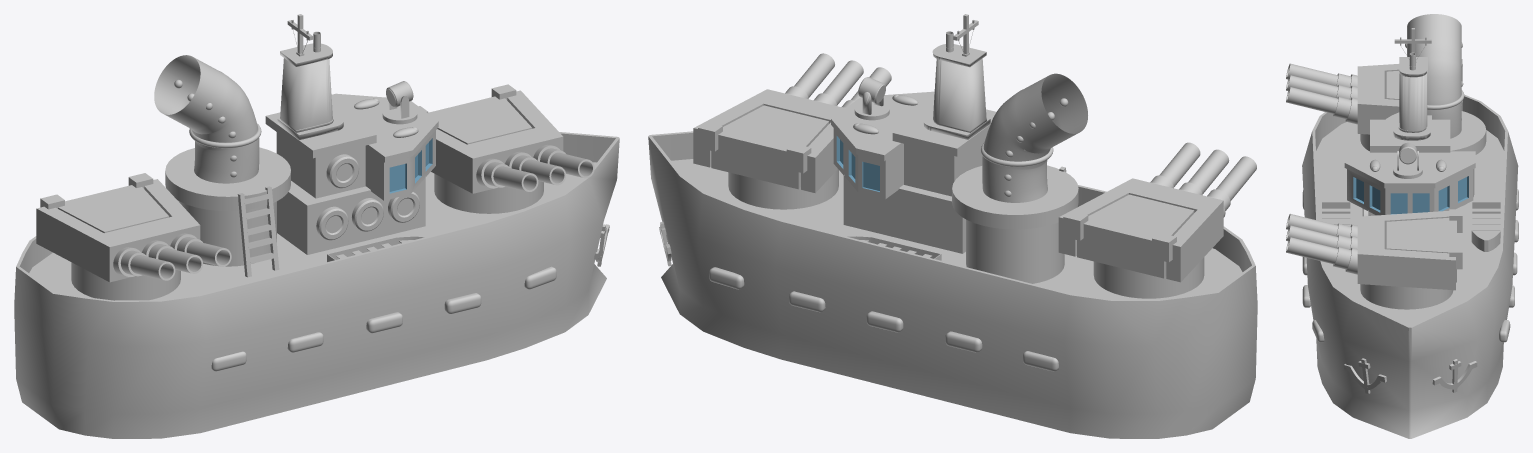
3 views of the same model, side by side, from view 1: azimuth 30°, elevation 25°; view 2: azimuth 150°, elevation 25°; view 3: azimuth 270°, elevation 25° (orthographic). The views are drawn at different scales.
Parts seen in each view (by area): view 1: 立方体_2_7, 扫描, 圆柱, 立方体_2_6, 立方体_2_2, 立方体_2, 立方体_3, 立方体_2_4, 封顶_2_9, 立方体_4_3, 立方体_4_2, 圆柱_1_2 (+13 smaller); view 2: 立方体_2_7, 圆柱, 扫描, 立方体_4_3, 立方体_4_2, 立方体_2, 立方体_2_2, 立方体_2_6, 立方体_3, 立方体_2_4, 封顶_2_9, 圆柱_1_3 (+11 smaller); view 3: 立方体_2_7, 立方体_2_2, 立方体_2_4, 扫描, 立方体_4_2, 立方体_2_6, 立方体_3, 立方体, 圆柱_1_2, 封顶_2_9, 圆柱, 立方体_1_2 (+16 smaller).
Part boxes in pixels (x1,y1,x2,y2): 立方体_2_7: [14, 132, 619, 438]; 扫描: [154, 55, 259, 183]; 圆柱: [165, 147, 290, 266]; 立方体_2_6: [36, 179, 200, 282]; 立方体_2_2: [331, 93, 438, 200]; 立方体_2: [277, 176, 425, 254]; 立方体_3: [265, 102, 376, 198]; 立方体_2_4: [431, 90, 563, 193]; 封顶_2_9: [280, 58, 332, 130]; 立方体_4_3: [58, 185, 169, 232]; 立方体_4_2: [428, 96, 532, 144]; 圆柱_1_2: [434, 174, 543, 213]; 立方体_2_7: [648, 131, 1257, 438]; 圆柱: [952, 165, 1078, 283]; 扫描: [982, 73, 1087, 202]; 立方体_4_3: [1077, 194, 1194, 278]; 立方体_4_2: [711, 105, 828, 189]; 立方体_2: [843, 175, 965, 253]; 立方体_2_2: [831, 91, 934, 199]; 立方体_2_6: [1058, 178, 1223, 282]; 立方体_3: [892, 103, 996, 196]; 立方体_2_4: [693, 89, 844, 193]; 封顶_2_9: [933, 58, 986, 131]; 圆柱_1_3: [1093, 257, 1204, 298]; 立方体_2_7: [1302, 94, 1518, 438]; 立方体_2_2: [1344, 151, 1475, 215]; 立方体_2_4: [1357, 211, 1455, 290]; 扫描: [1407, 14, 1461, 138]; 立方体_4_2: [1386, 217, 1456, 282]; 立方体_2_6: [1357, 64, 1399, 134]; 立方体_3: [1370, 119, 1450, 152]; 立方体: [1353, 176, 1468, 214]; 圆柱_1_2: [1360, 284, 1453, 309]; 封顶_2_9: [1399, 71, 1427, 131]; 圆柱: [1386, 111, 1486, 205]; 立方体_1_2: [1471, 202, 1501, 251].
Bounding box in the file's own units: 9325 × 5115 × 3794.
